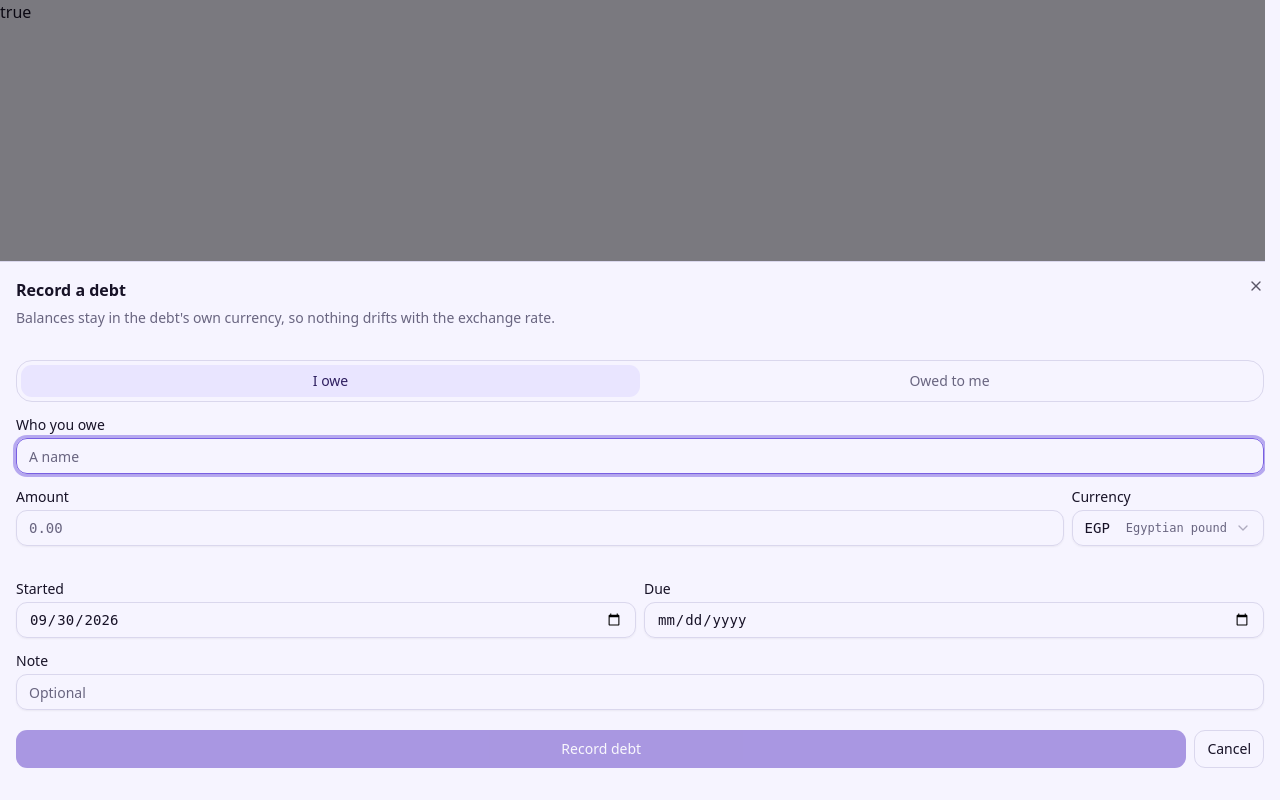
Test: when the server refuses › states a failure with no field to blame in the sheet
Type "Mostafa" into the field labelled "Who you owe". click: (640, 456)
box: [16,438,1264,474]
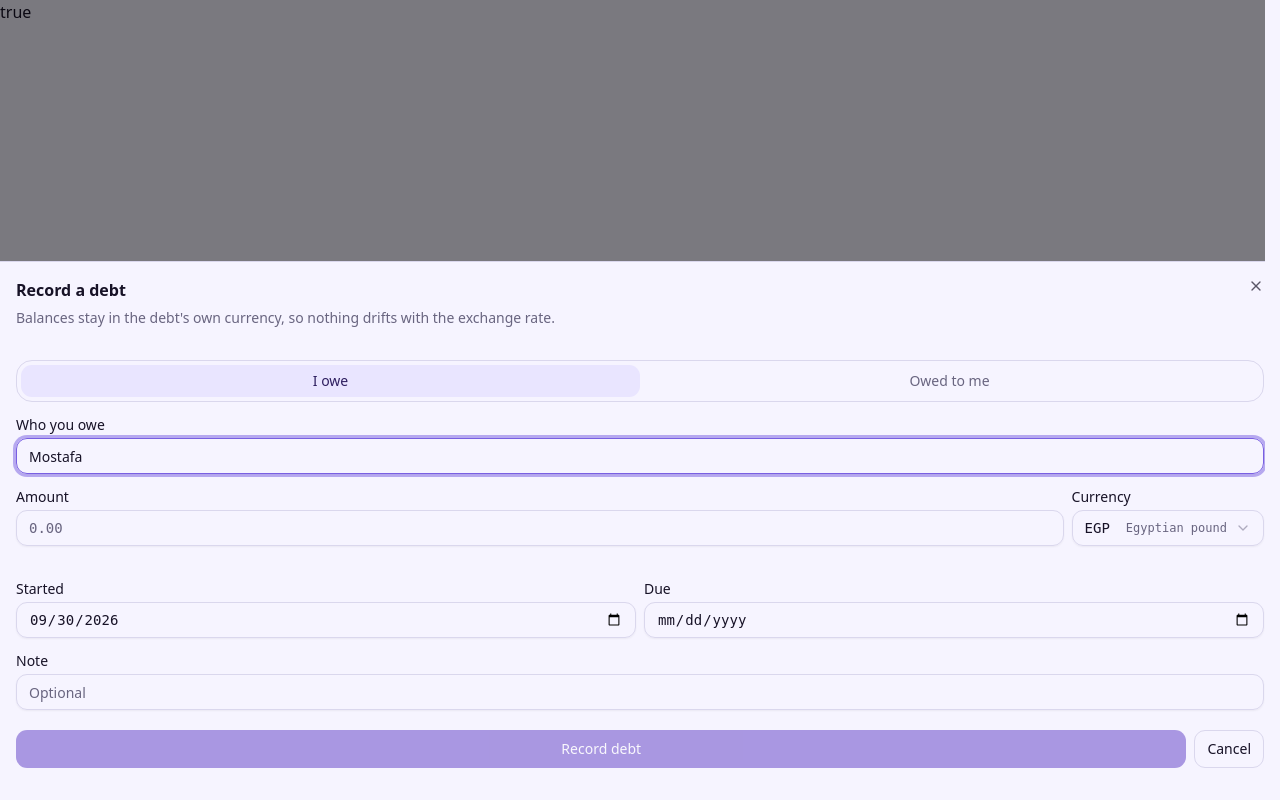
Type "100" into the field labelled "Amount". click: (540, 528)
box: [16,510,1064,546]
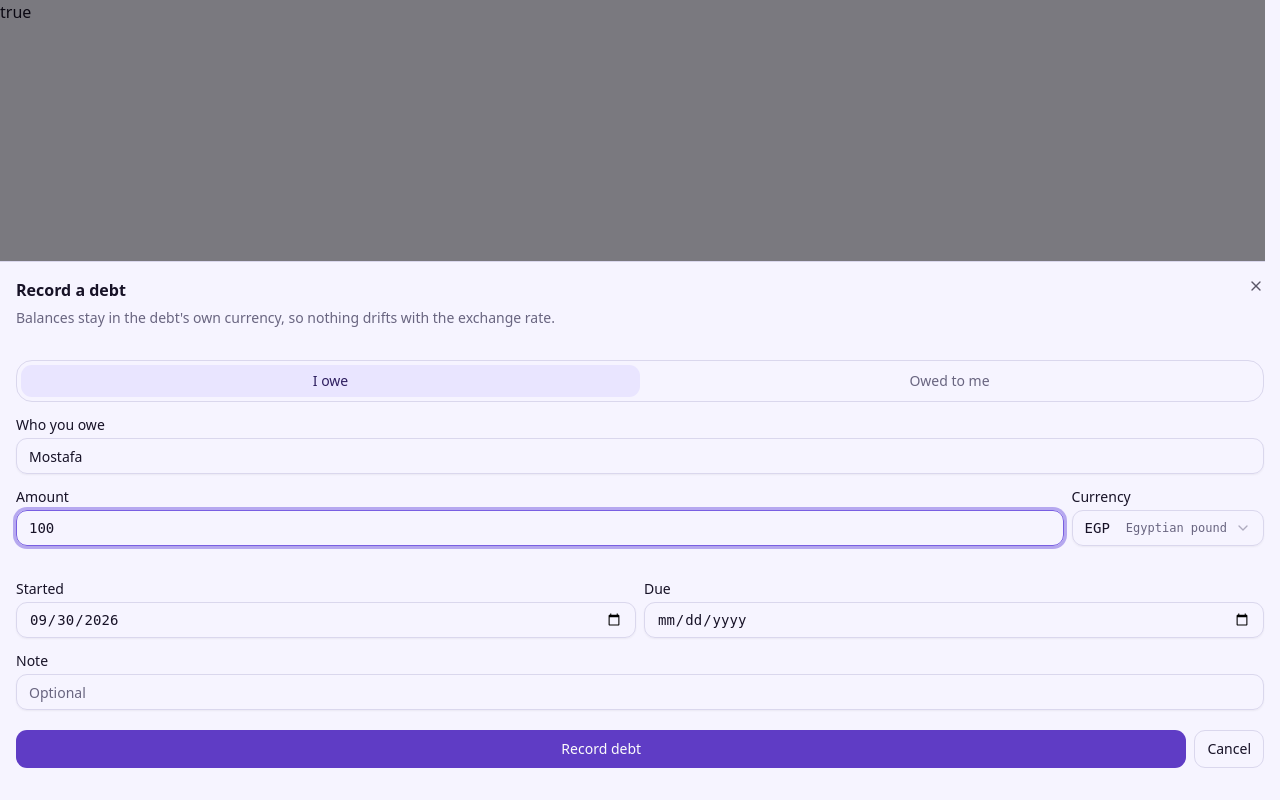
Click the button "Record debt". click: (601, 749)
box: [16,730,1186,768]
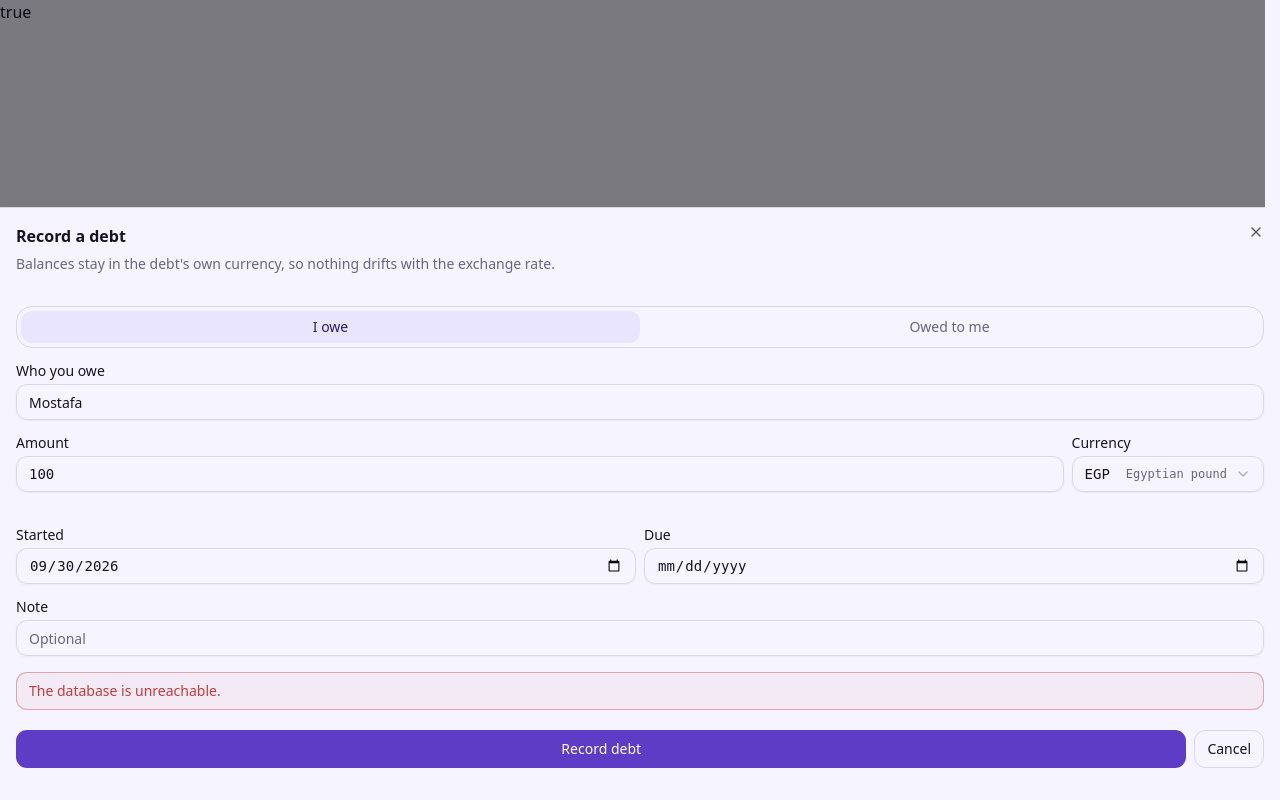
Expected: the text "The database is unreachable." is shown, [16,672,1264,710]
